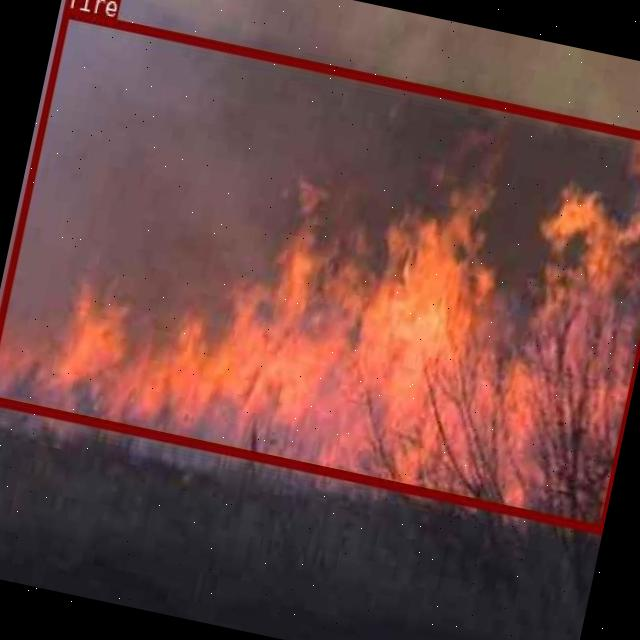fire: (0, 8, 640, 533)
